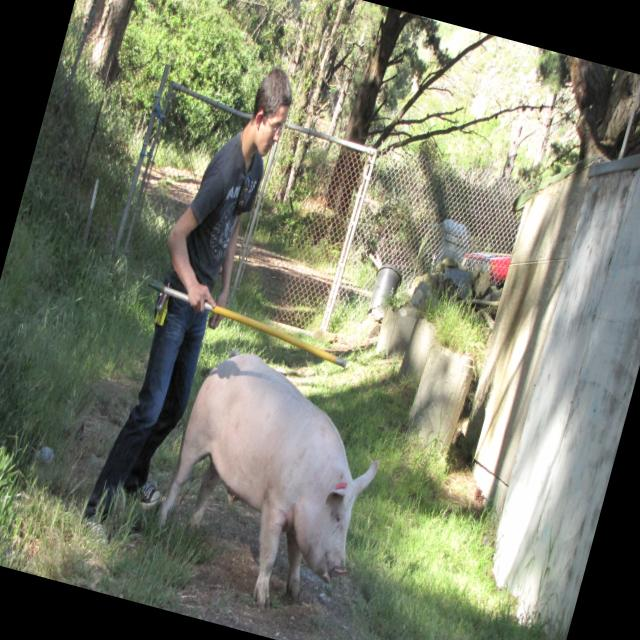pig: (158, 354, 378, 606)
